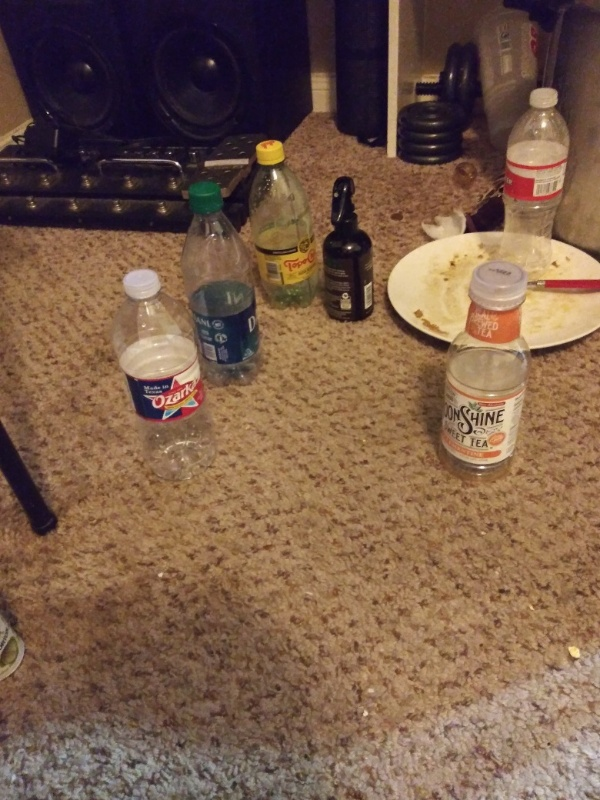bottle: (109, 268, 221, 477), (436, 258, 537, 487), (173, 179, 268, 389), (493, 86, 575, 277), (243, 139, 323, 313)
